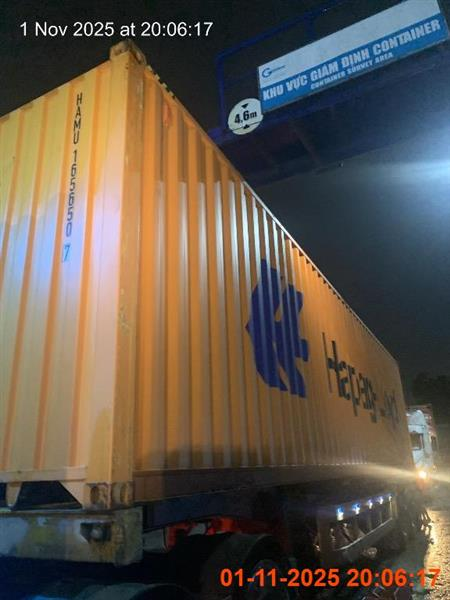broken: (0, 43, 434, 599), (0, 42, 433, 599)
